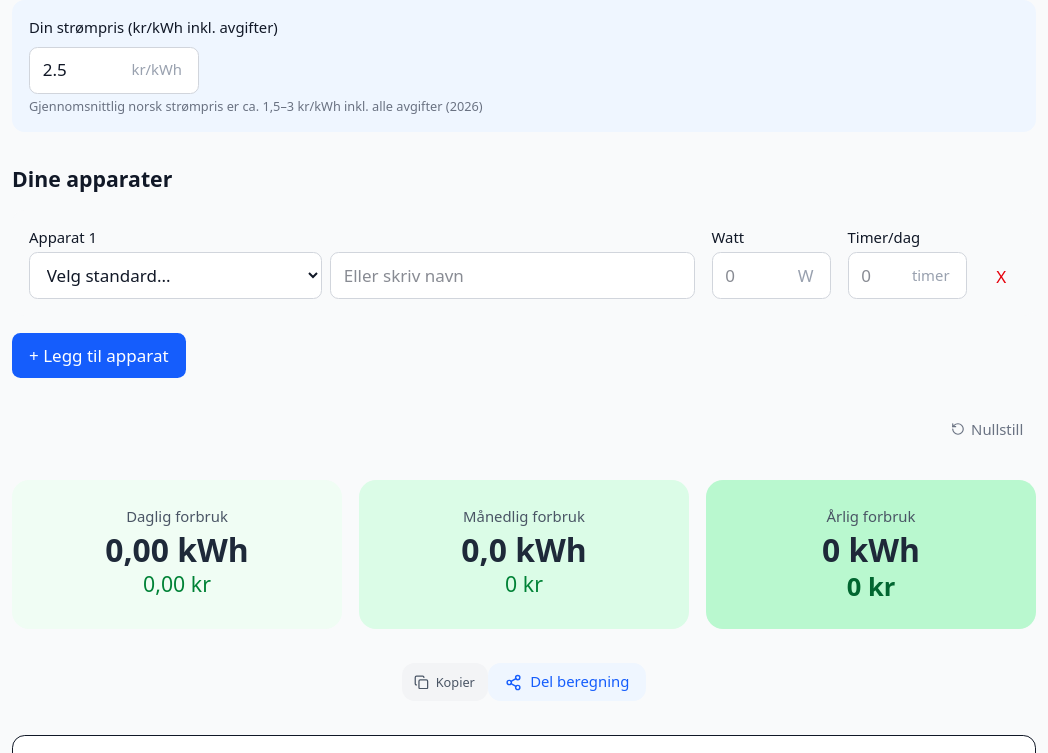
Test: Elberegner — apparatnavne pr. domæne › valg af en standardenhed sætter det oversatte navn i feltet (no)
The width and height of the screenshot is (1048, 753).
Select "Kjøleskap (40W)" in the dropdown named "Apparat 1 — Velg standard..." at (175, 276), box x1=29 y1=252 x2=322 y2=299
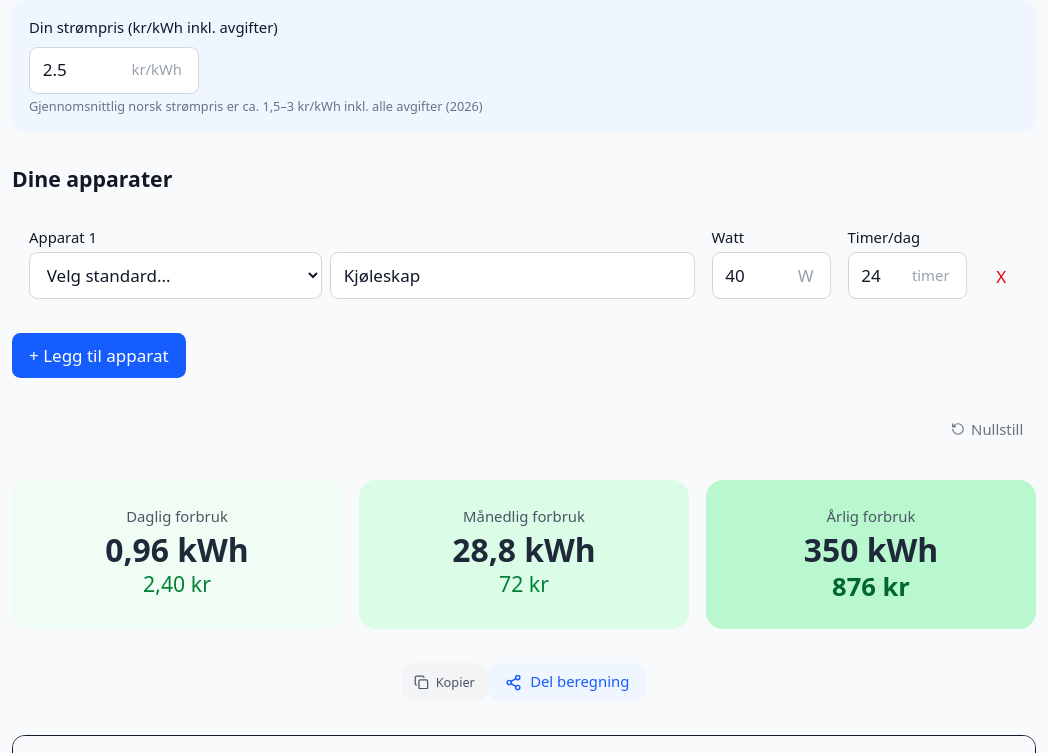
Now the field named "Apparat 1 — Eller skriv navn" holds "Kjøleskap", box x1=330 y1=252 x2=694 y2=299
